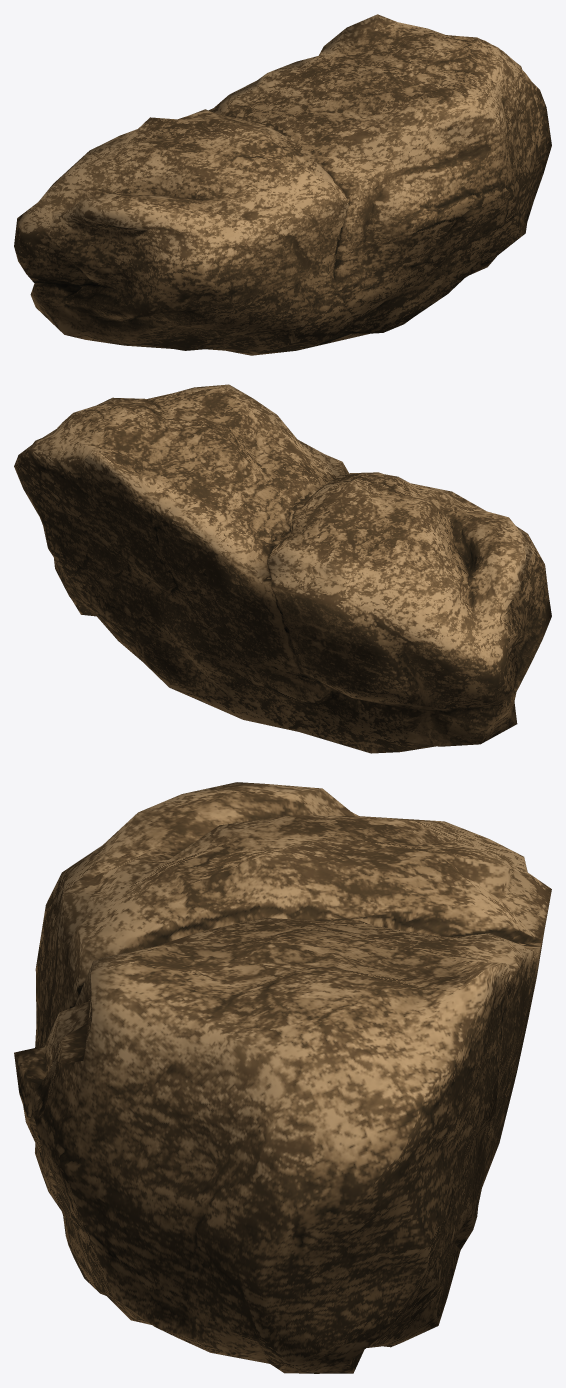
Rendered from mm8_deco_rock14.glb.
3 views of the same model, one above another, from view 1: azimuth 30°, elevation 25°; view 2: azimuth 150°, elevation 25°; view 3: azimuth 270°, elevation 25° (orthographic). The views are drawn at different scales.
Parts seen in each view (by area): view 1: Rock14; view 2: Rock14; view 3: Rock14.
Part boxes in pixels (bbox=[...]): Rock14: bbox=[14, 14, 551, 355]; Rock14: bbox=[14, 384, 551, 753]; Rock14: bbox=[14, 782, 551, 1373].
Bounding box in the file's own units: 1.46 × 0.6796 × 0.757.
Materials: 1 (1 with a texture image).
